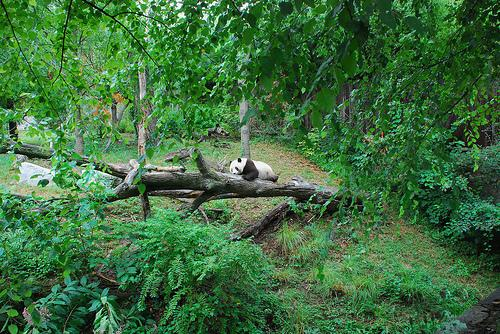panda: (229, 158, 277, 179)
